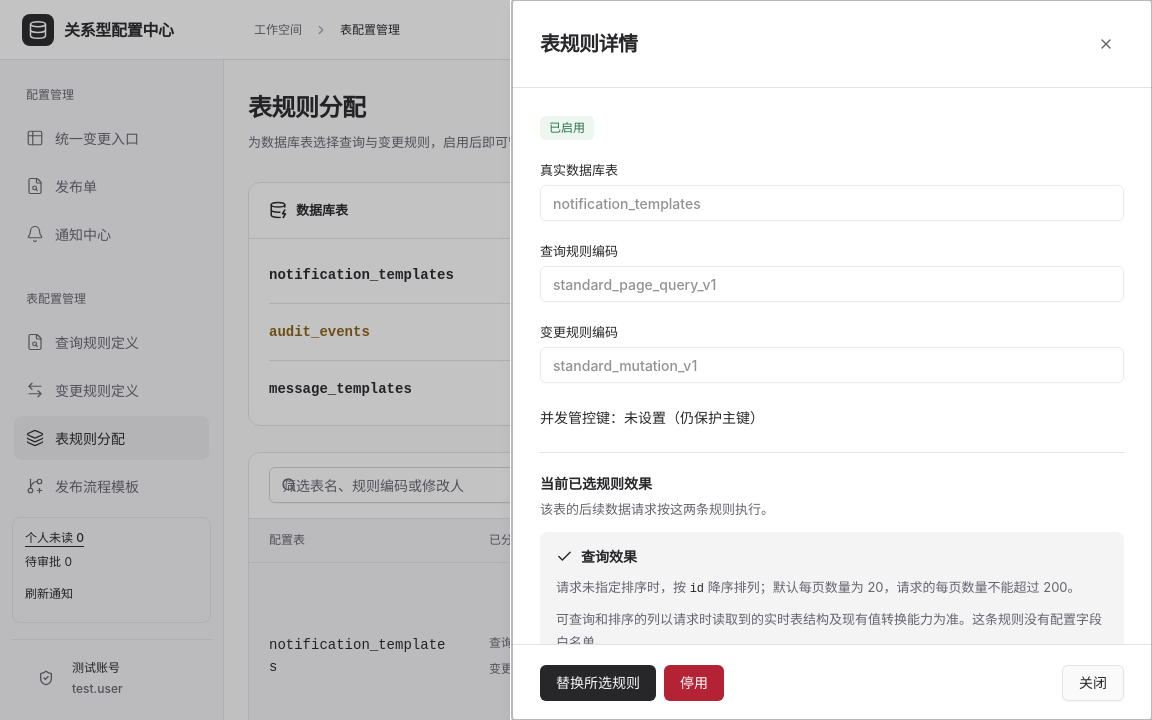
Test: 表规则分配页面 › manually replays the original disable request after response loss
The width and height of the screenshot is (1152, 720).
Click the button "停用". click: click(694, 682)
box: [664, 664, 724, 700]
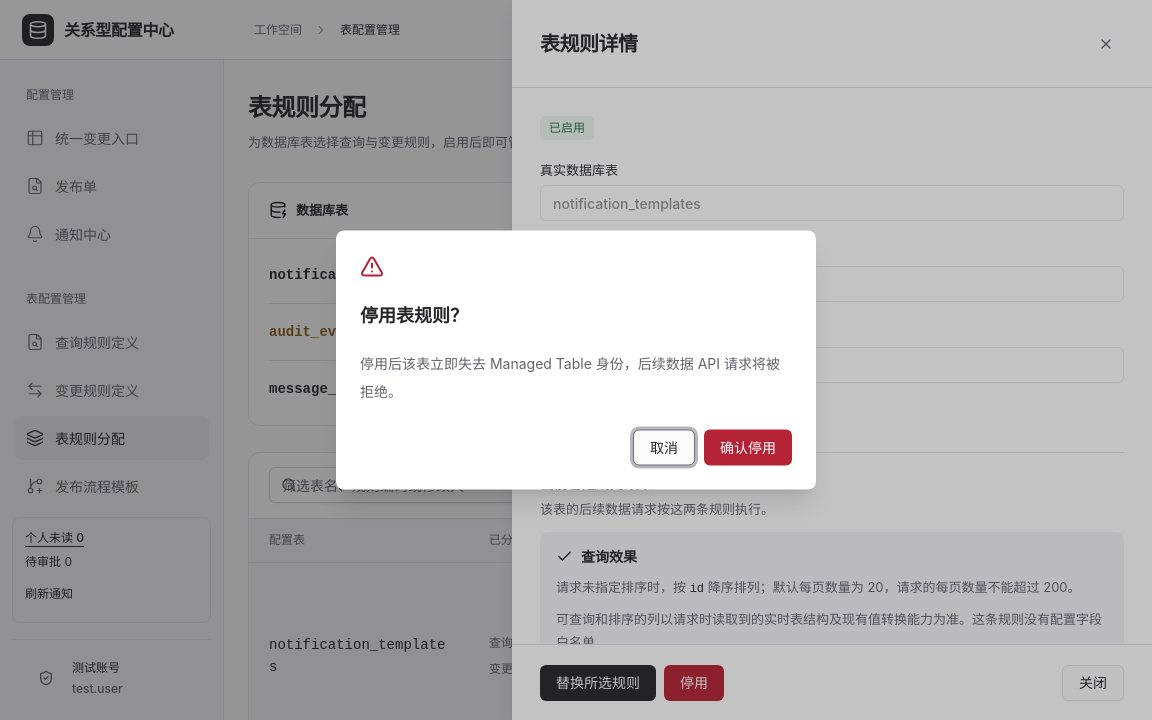
Click the button "确认停用". click: click(748, 448)
box: [704, 430, 792, 466]
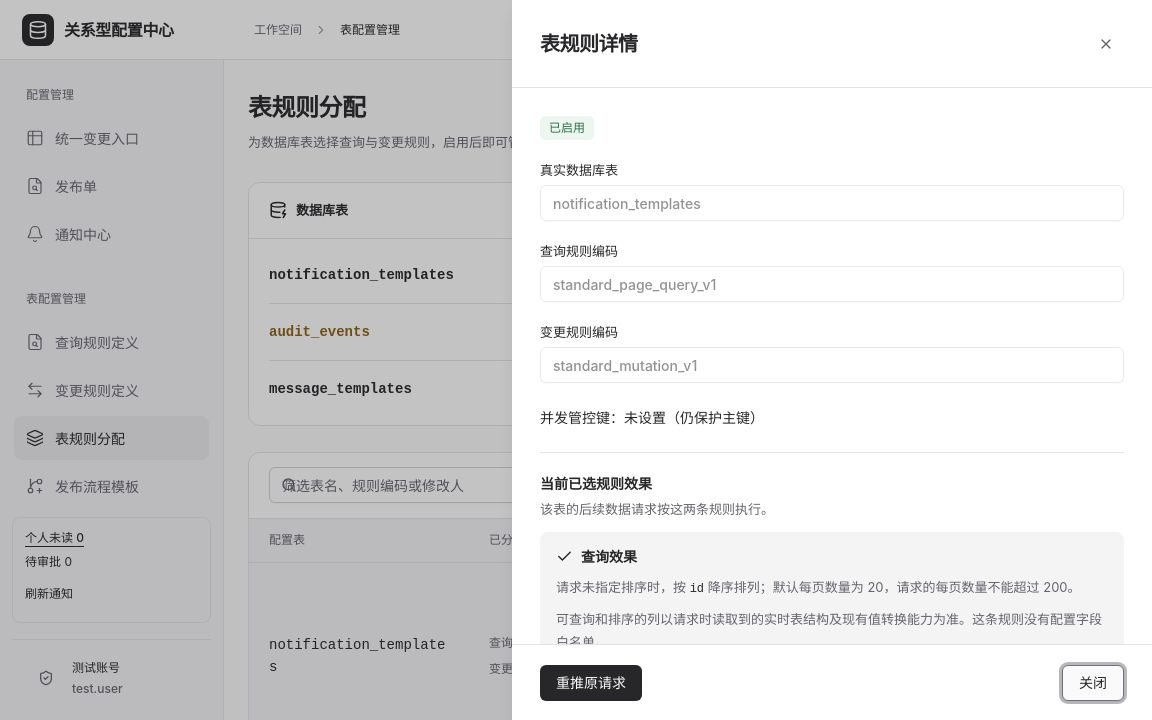
Click the button "重推原请求". click: click(591, 682)
box: [540, 664, 642, 700]
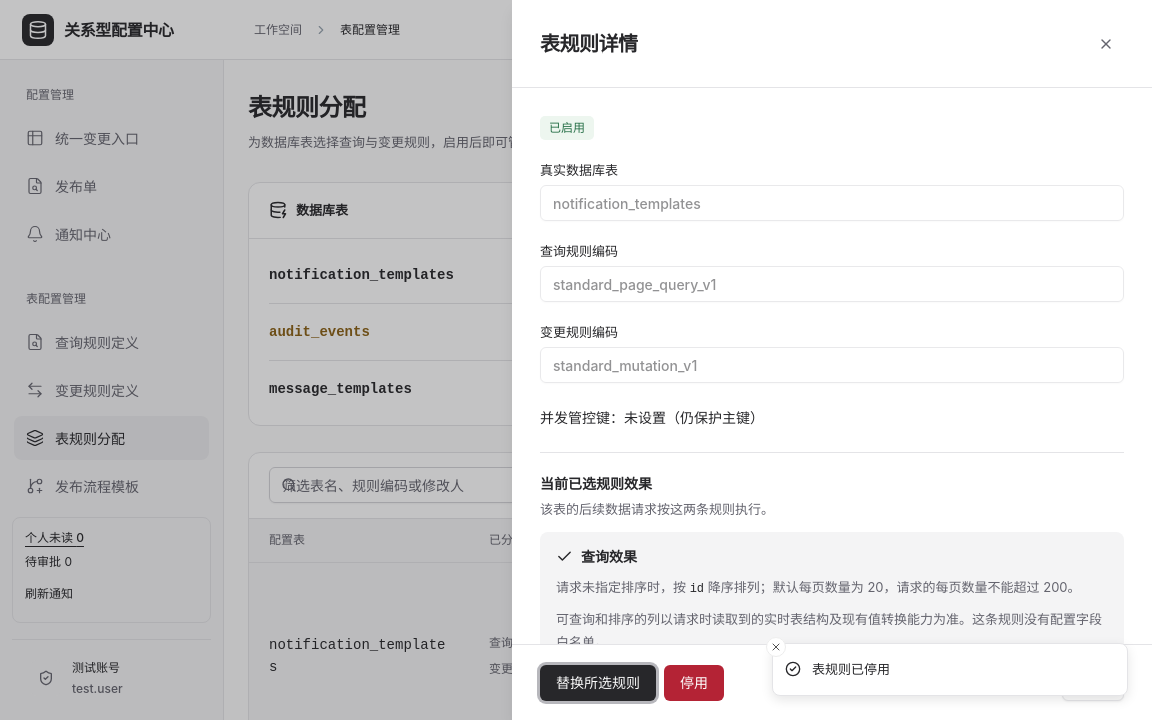
Now the text "表规则已停用" is shown, box [812, 660, 890, 679]
